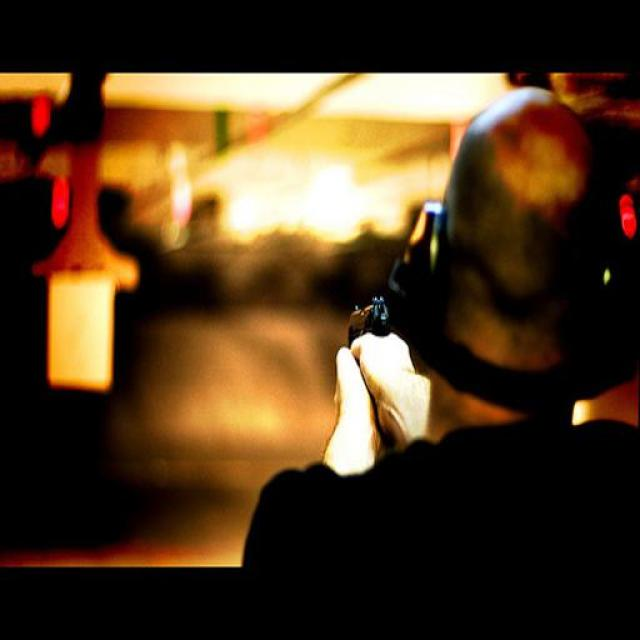pistol: (345, 294, 392, 440)
